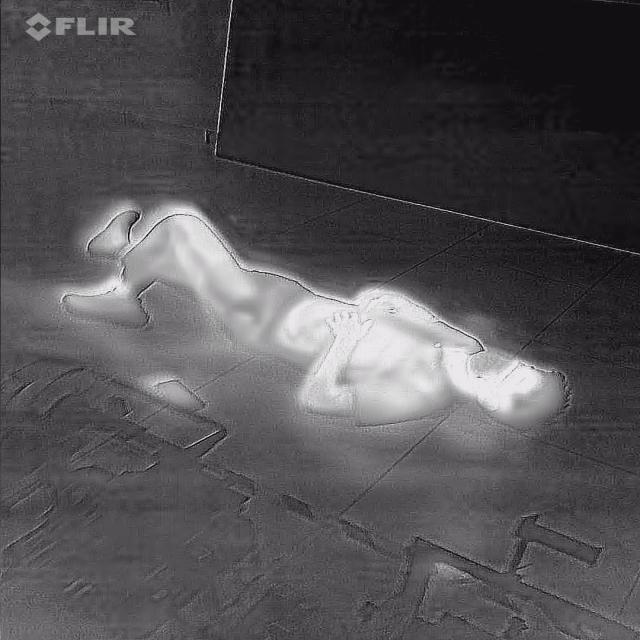Victim: (49, 190, 582, 452)
